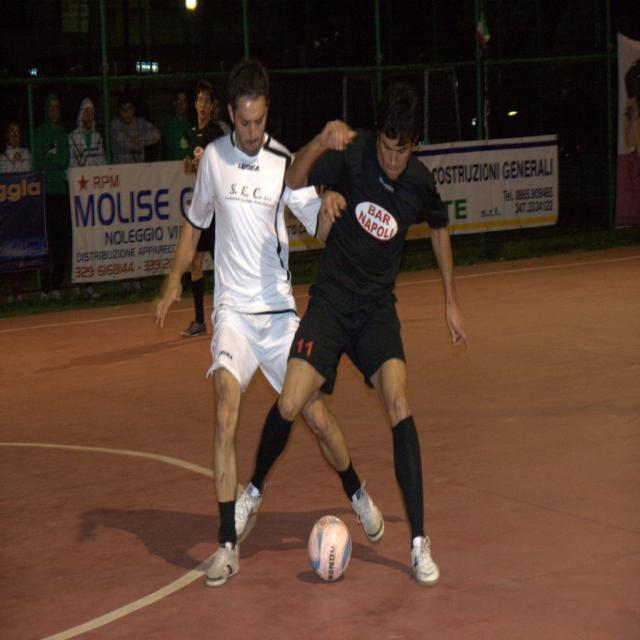football: (302, 513, 371, 587)
